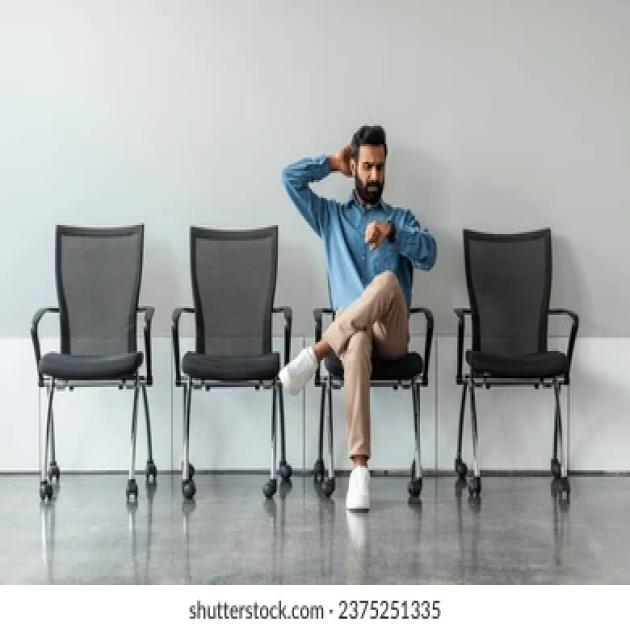chair: (454, 230, 582, 513), (36, 216, 160, 504), (180, 213, 285, 482)
there is a person sitting: (281, 142, 435, 502)
